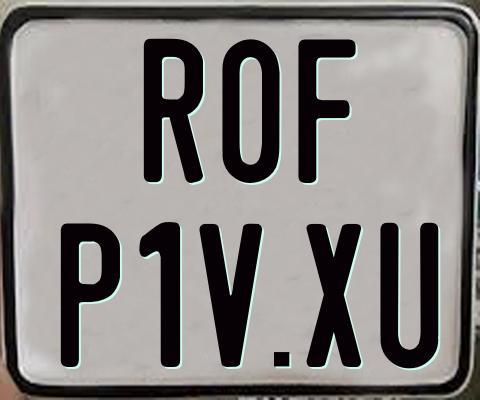0: (219, 39, 283, 184)
1: (136, 220, 183, 371)
F: (297, 38, 359, 187)
P: (59, 221, 122, 365)
R: (144, 39, 206, 185)
U: (380, 220, 439, 365)
V: (196, 223, 259, 369)
X: (303, 221, 360, 370)
